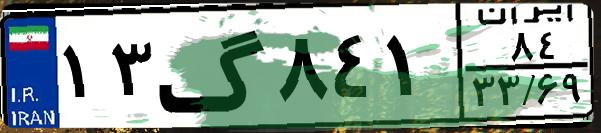1: (385, 28, 445, 110), (57, 26, 110, 100)
3: (110, 28, 156, 98), (470, 70, 495, 125), (495, 70, 520, 125)
4: (330, 28, 385, 110), (537, 27, 568, 80)
6: (535, 70, 560, 125)
8: (270, 28, 330, 110), (508, 27, 537, 80)
9: (560, 70, 590, 125)
گ: (156, 12, 270, 120)
